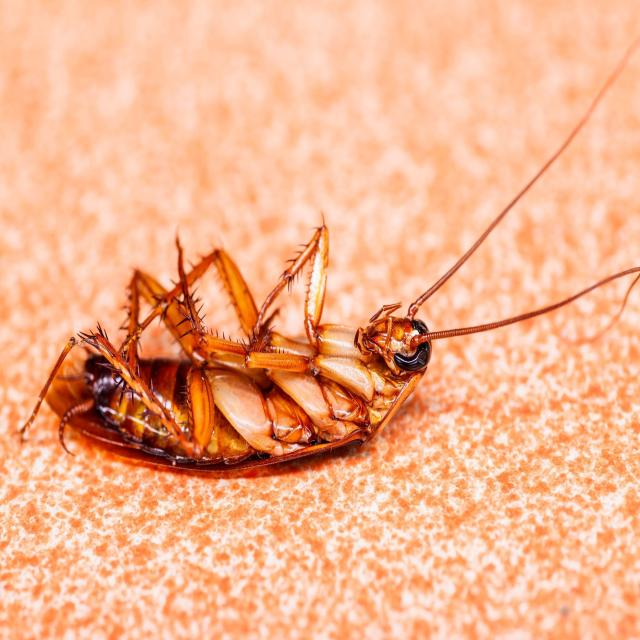Cockroach: (29, 222, 461, 466)
